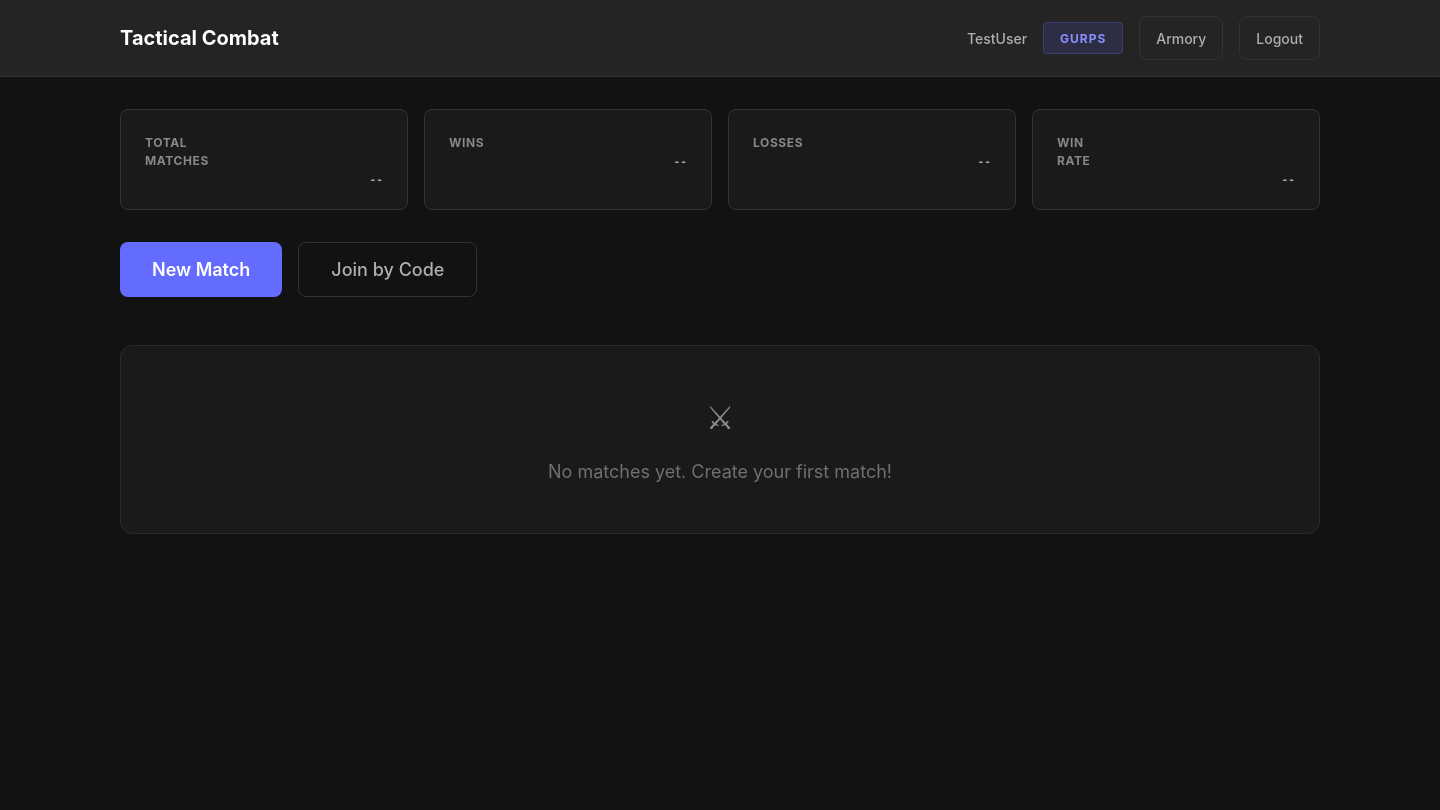
Scenario: Dashboard › clicking ruleset badge directly switches and shows toast
Click the button "GURPS".
click(1083, 38)  # box 1043,22 -> 1123,54
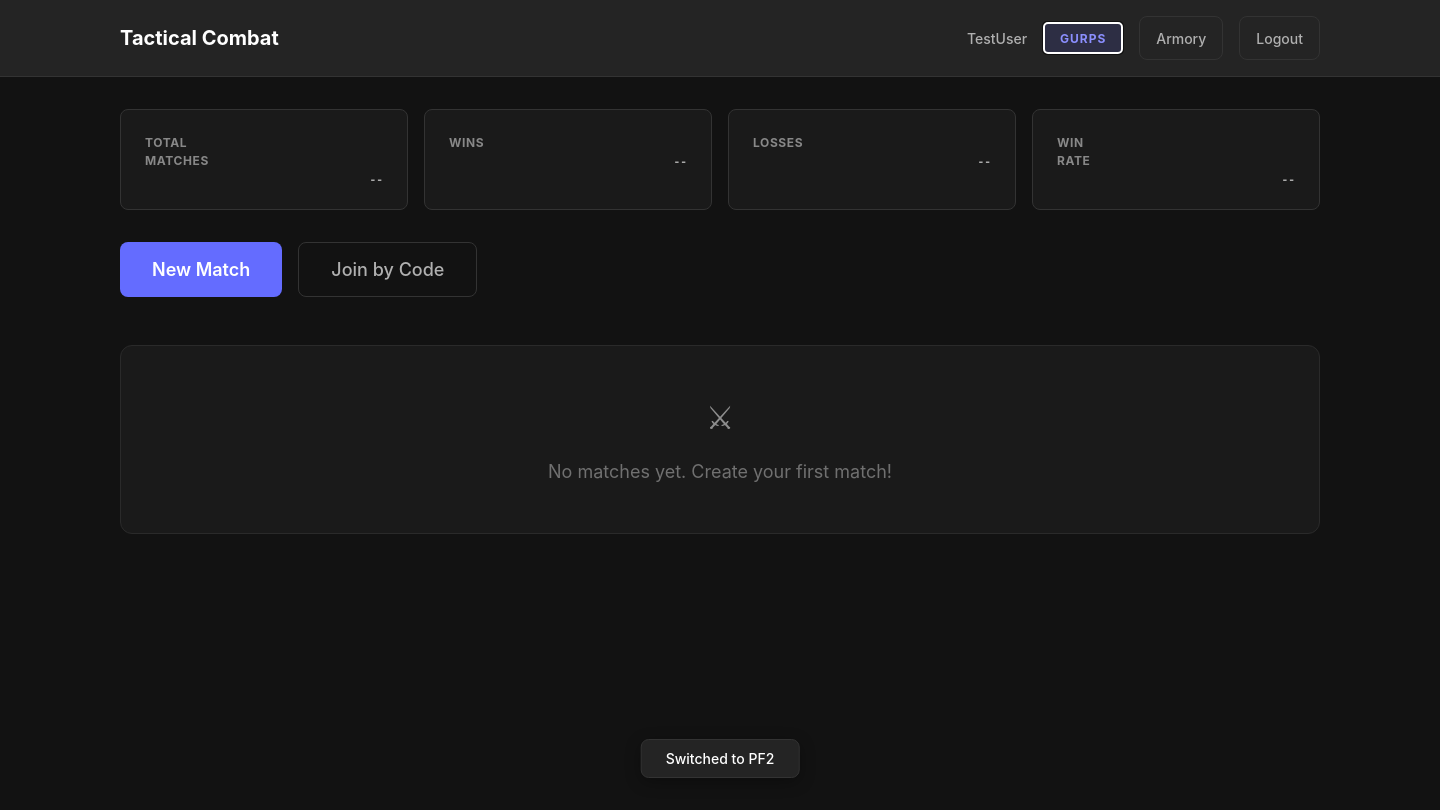
Expected: the text "Switched to PF2" is shown, 641,739 -> 799,778
